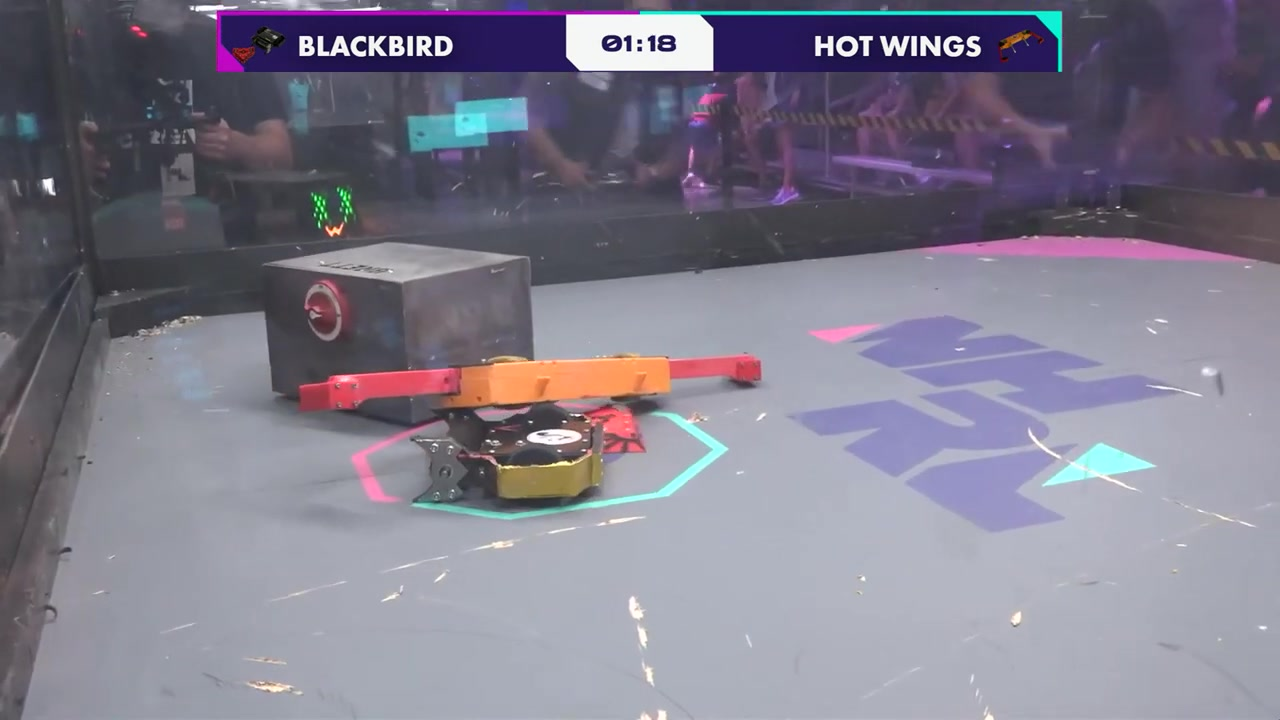combatbot: (299, 352, 763, 413), (411, 404, 603, 508)
housebot: (261, 242, 533, 426)
